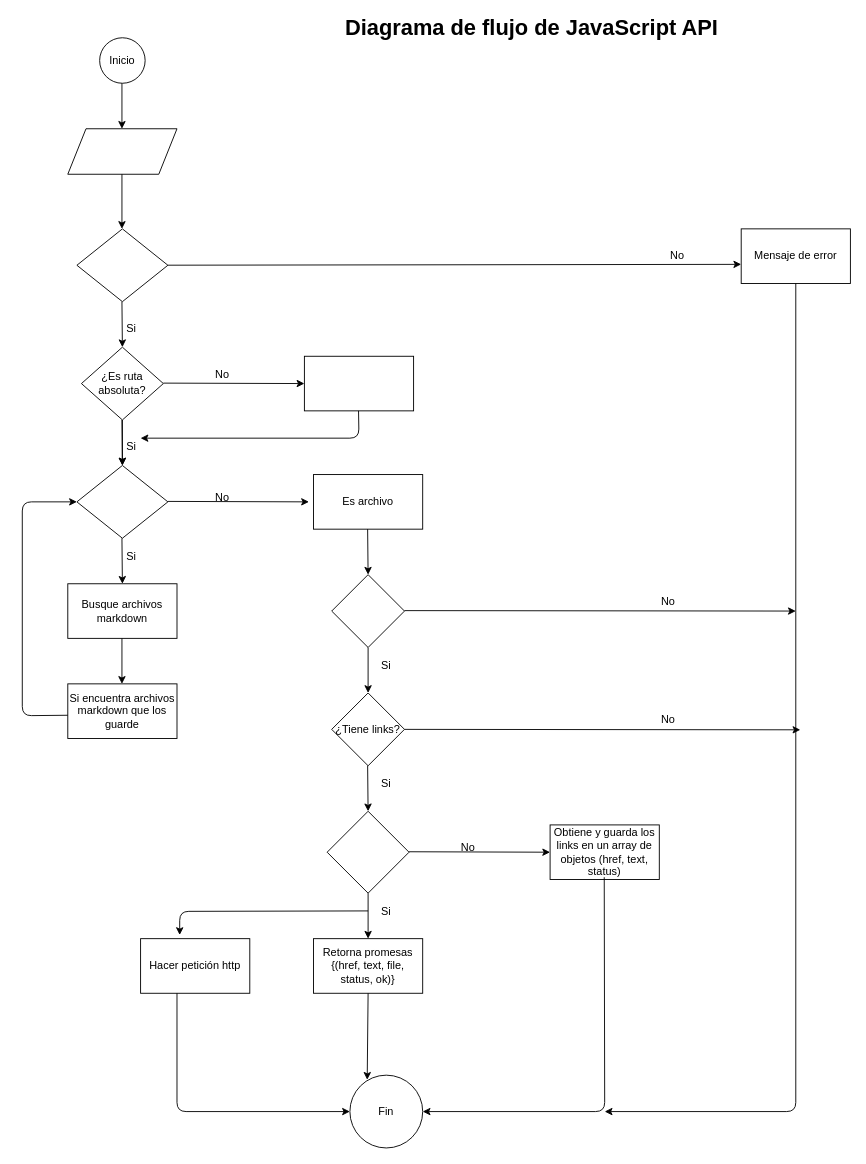
The diagram is 866 pixels wide and 1164 high, and some of its shapes have lost their labels. The centre of each missing label's shape, as x and y in pixels:
Convertir ruta relativa a absoluta: the point at 358,383
Options:value: the point at 367,851
path-options: the point at 122,151
¿Es archivo md?: the point at 367,610
¿Es directorio?: the point at 122,501
¿path existe?: the point at 122,265
